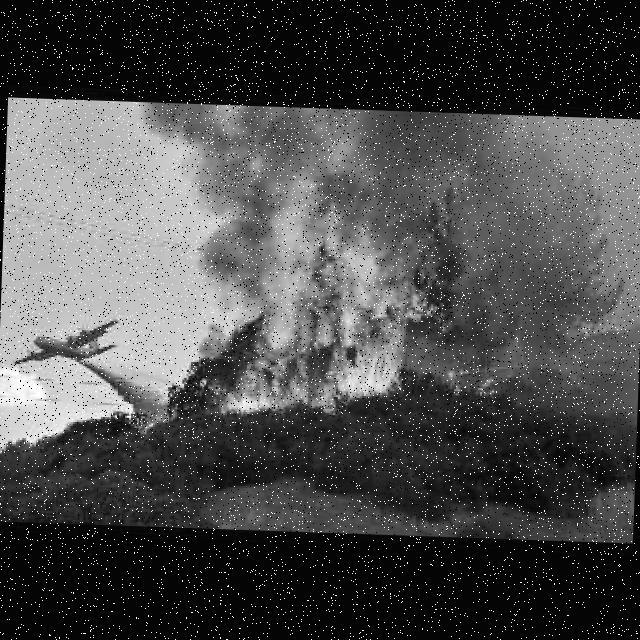Fire: (213, 289, 423, 422), (449, 349, 527, 402), (566, 311, 633, 339)
Smoke: (143, 105, 489, 312)
